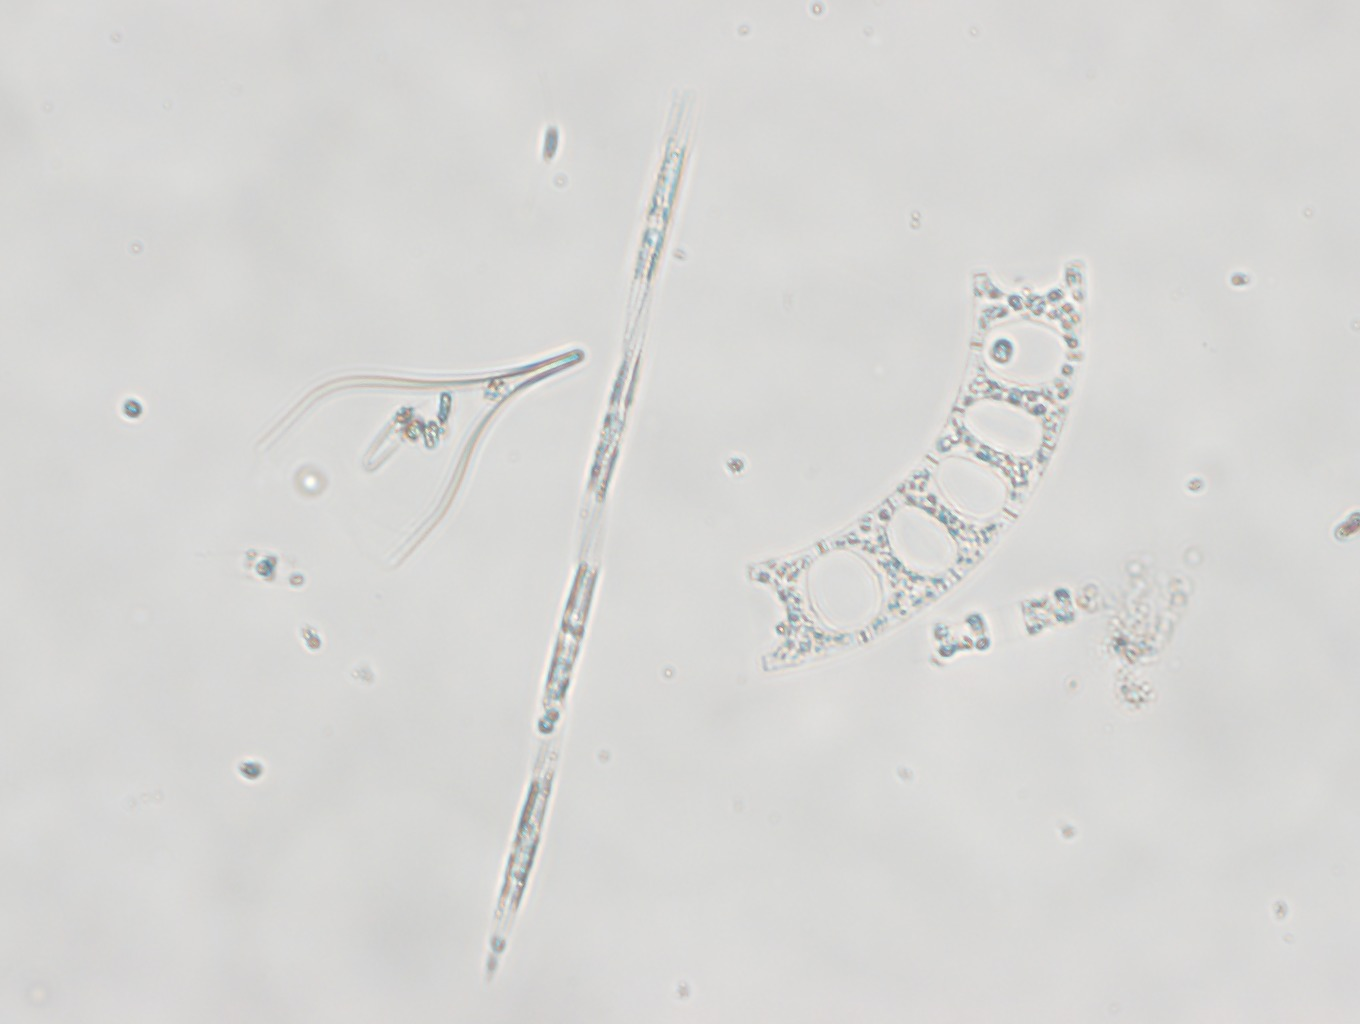eucampia: (743, 260, 1096, 679)
rhizosolenia: (197, 349, 590, 584)
